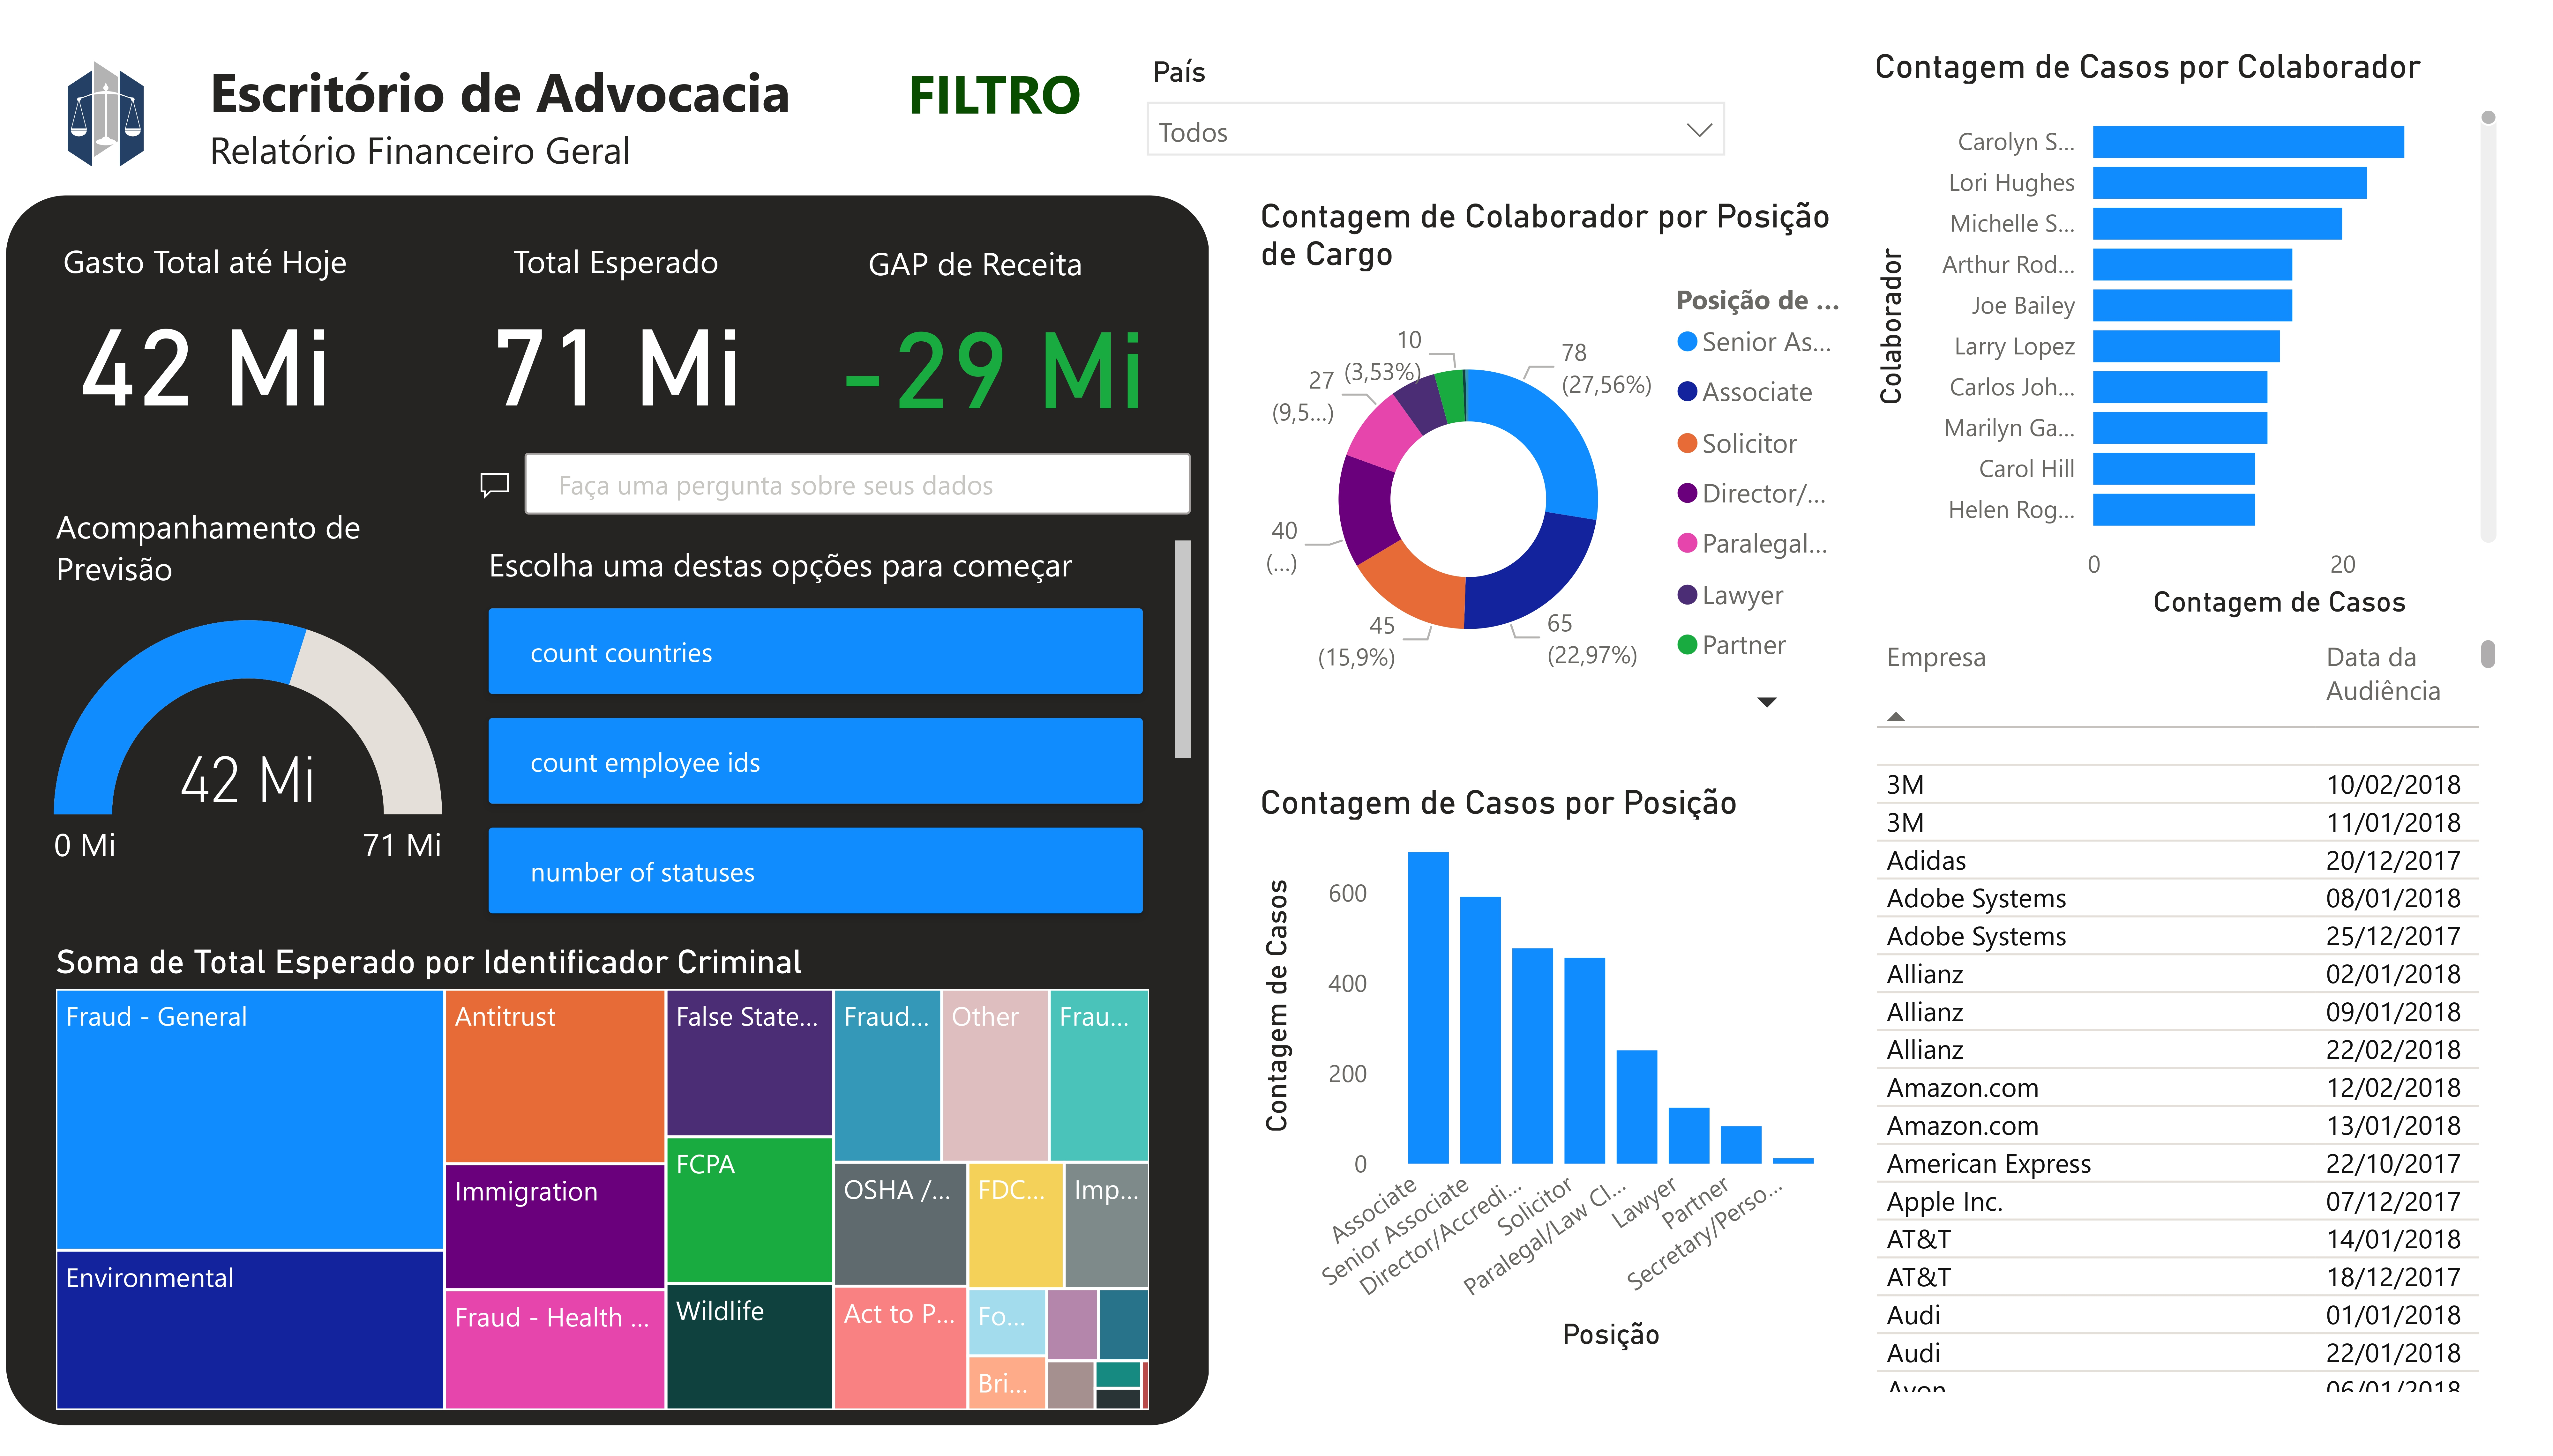

The page's visual inventory and layout, read from the dashboard file:
{"tool":"powerbi","page":{"name":"Overview","canvas":[1280,720],"ordinal":0},"visuals":[{"type":"shape","box":[3.3,93.3,603.3,616.7],"z":1000},{"type":"card","fields":{"Values":["LAW_FIRM_DATA csv.TOTAL_SPENT"]},"box":[0,151.8,206,62],"z":2000},{"type":"card","fields":{"Values":["LAW_FIRM_DATA csv.TOTAL_EXPECTED"]},"box":[206,151.8,206,62],"z":3000},{"type":"textbox","box":[0,110.1,205.7,41.4],"z":4000},{"type":"textbox","box":[205.7,110.1,205.7,41.4],"z":5000},{"type":"gauge","fields":{"Y":["LAW_FIRM_DATA csv.TOTAL_SPENT"],"MaxValue":["LAW_FIRM_DATA csv.TOTAL_EXPECTED"]},"box":[21.5,284.6,204.6,170.8],"z":6000},{"type":"textbox","box":[22.5,242.5,210,57.5],"z":7000},{"type":"card","fields":{"Values":["LAW_FIRM_DATA csv.REVENUE_GAP"]},"box":[386.2,150.8,207.7,67.7],"z":8000},{"type":"barChart","fields":{"Category":["LAW_FIRM_DATA csv.Employee"],"Y":["LAW_FIRM_DATA csv.CASE_ID"]},"box":[935,18.3,321.7,291.7],"z":9000},{"type":"tableEx","fields":{"Values":["LAW_FIRM_DATA csv.COMPANY","LAW_FIRM_DATA csv.JUDGMENT_DATE_2"]},"box":[935,310,321.7,388.3],"z":10000},{"type":"clusteredColumnChart","fields":{"Y":["LAW_FIRM_DATA csv.CASE_ID"],"Category":["LAW_FIRM_DATA csv.Position"]},"box":[626.7,386.7,298.3,290],"z":11000},{"type":"donutChart","fields":{"Y":["LAW_FIRM_DATA csv.EMPLOYEE ID"],"Category":["LAW_FIRM_DATA csv.Position"]},"box":[626.7,93.3,308.3,266.7],"z":12000},{"type":"treemap","fields":{"Group":["LAW_FIRM_DATA csv.PRIMARY_CRIME_CODE"],"Values":["LAW_FIRM_DATA csv.TOTAL_EXPECTED"]},"box":[23.3,466.7,558.3,240],"z":13000},{"type":"qnaVisual","box":[232.3,196.9,373.8,273.8],"z":14000},{"type":"slicer","fields":{"Values":["LAW_FIRM_DATA csv.COUNTRY"]},"box":[565,18.3,310,70],"z":15000},{"type":"image","box":[3.1,0,100,104.6],"z":16000},{"type":"textbox","box":[100,16.9,375.4,46.2],"z":17000},{"type":"textbox","box":[100,52.3,300,52.3],"z":18000},{"type":"textbox","box":[386.2,110.8,206.2,41.5],"z":19000},{"type":"textbox","box":[450,18.3,115,70],"z":20000}]}

Visuals, with their boxes in screenshot pixels (x1, y1, x2, y2), scaled from the page's 1280x720 canvas onto the 2553x1456 screenshot:
shape: x1=7, y1=189, x2=1210, y2=1436
card - LAW_FIRM_DATA csv.TOTAL_SPENT: x1=0, y1=307, x2=411, y2=432
card - LAW_FIRM_DATA csv.TOTAL_EXPECTED: x1=411, y1=307, x2=822, y2=432
textbox: x1=0, y1=223, x2=410, y2=306
textbox: x1=410, y1=223, x2=820, y2=306
gauge - LAW_FIRM_DATA csv.TOTAL_SPENT x LAW_FIRM_DATA csv.TOTAL_EXPECTED: x1=43, y1=576, x2=451, y2=921
textbox: x1=45, y1=490, x2=464, y2=607
card - LAW_FIRM_DATA csv.REVENUE_GAP: x1=770, y1=305, x2=1185, y2=442
barChart - LAW_FIRM_DATA csv.Employee x LAW_FIRM_DATA csv.CASE_ID: x1=1865, y1=37, x2=2506, y2=627
tableEx - LAW_FIRM_DATA csv.COMPANY x LAW_FIRM_DATA csv.JUDGMENT_DATE_2: x1=1865, y1=627, x2=2506, y2=1412
clusteredColumnChart - LAW_FIRM_DATA csv.CASE_ID x LAW_FIRM_DATA csv.Position: x1=1250, y1=782, x2=1845, y2=1369
donutChart - LAW_FIRM_DATA csv.EMPLOYEE ID x LAW_FIRM_DATA csv.Position: x1=1250, y1=189, x2=1865, y2=728
treemap - LAW_FIRM_DATA csv.PRIMARY_CRIME_CODE x LAW_FIRM_DATA csv.TOTAL_EXPECTED: x1=47, y1=944, x2=1160, y2=1429
qnaVisual: x1=463, y1=398, x2=1209, y2=952
slicer - LAW_FIRM_DATA csv.COUNTRY: x1=1127, y1=37, x2=1745, y2=179
image: x1=6, y1=0, x2=206, y2=212
textbox: x1=199, y1=34, x2=948, y2=128
textbox: x1=199, y1=106, x2=798, y2=212
textbox: x1=770, y1=224, x2=1181, y2=308
textbox: x1=897, y1=37, x2=1127, y2=179
